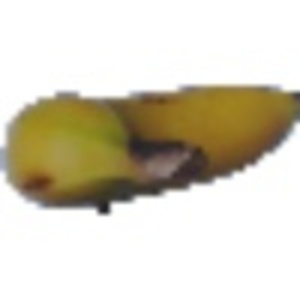banana: (6, 77, 293, 208)
